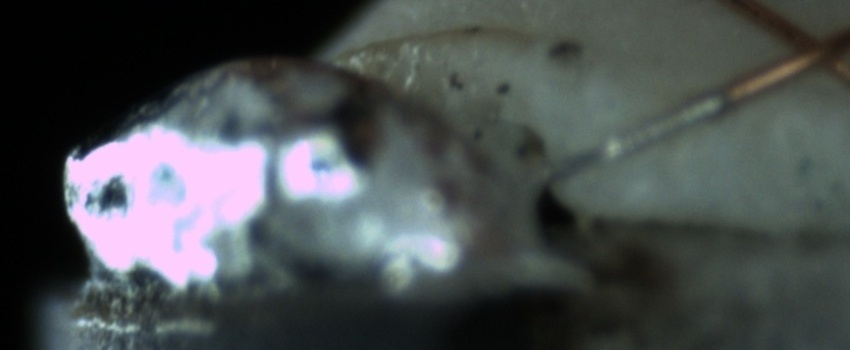CL: (761, 8, 850, 85)
TS: (535, 90, 728, 187)
